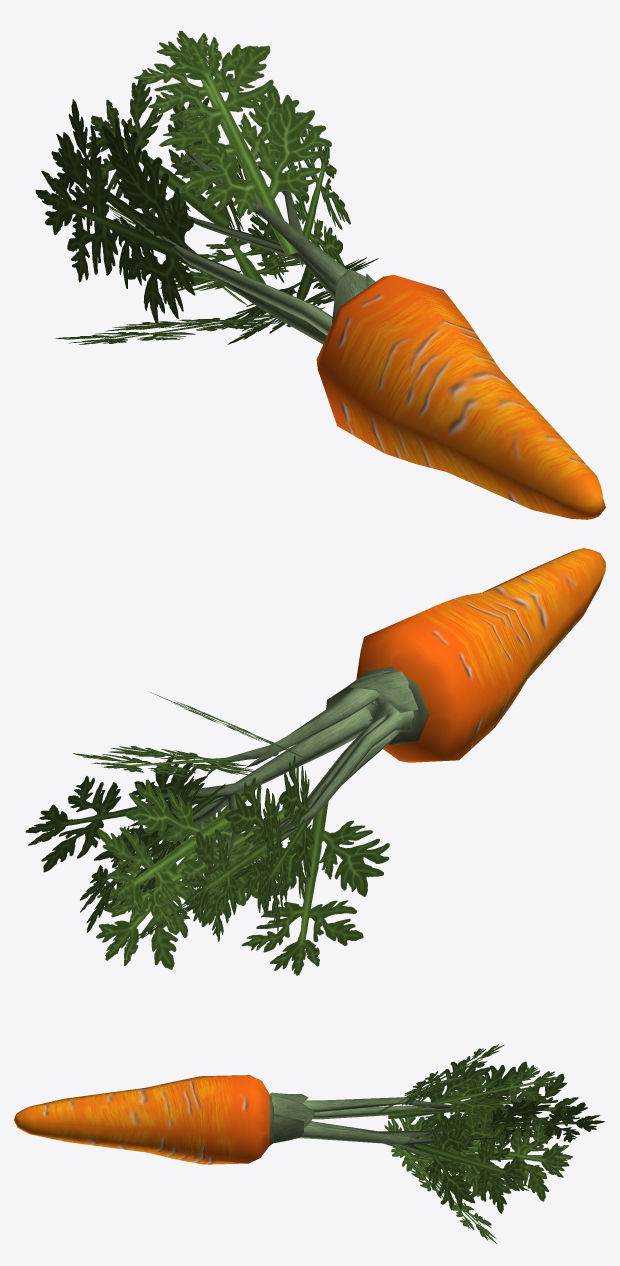
Rendered from ninnjin.fbx.
3 views of the same model, one above another, from view 1: azimuth 30°, elevation 25°; view 2: azimuth 150°, elevation 25°; view 3: azimuth 270°, elevation 25° (orthographic). The views are drawn at different scales.
Parts seen in each view (by area): view 1: pCylinder1, pPlane2, pPlane13, pPlane24, pCylinder2, pPlane12, pPlane8, pPlane9, pPlane5, pPlane20, pPlane14, pPlane10 (+6 smaller); view 2: pCylinder1, pCylinder2, pPlane8, pPlane14, pPlane9, pPlane25, pPlane17, pPlane5, pPlane13, pPlane6, pPlane10, pPlane15 (+8 smaller); view 3: pCylinder1, pPlane5, pCylinder2, pPlane15, pPlane12, pPlane19, pPlane9, pPlane13, pPlane2, pPlane24, pPlane6, pPlane11 (+7 smaller).
Part boxes in pixels (left/top/right/bottom): pCylinder1: left=316, top=274, right=605, bottom=519; pPlane2: left=148, top=37, right=331, bottom=255; pPlane13: left=35, top=132, right=238, bottom=322; pPlane24: left=36, top=133, right=237, bottom=322; pCylinder2: left=129, top=148, right=347, bottom=344; pPlane12: left=133, top=31, right=313, bottom=196; pPlane8: left=86, top=69, right=231, bottom=250; pPlane9: left=51, top=99, right=183, bottom=288; pPlane5: left=284, top=111, right=350, bottom=266; pPlane20: left=52, top=100, right=183, bottom=288; pPlane14: left=55, top=313, right=277, bottom=344; pPlane10: left=159, top=234, right=326, bottom=290; pCylinder1: left=356, top=548, right=605, bottom=762; pCylinder2: left=134, top=688, right=414, bottom=857; pPlane8: left=97, top=779, right=231, bottom=933; pPlane14: left=241, top=821, right=389, bottom=975; pPlane9: left=185, top=777, right=310, bottom=941; pPlane25: left=241, top=801, right=389, bottom=975; pPlane17: left=26, top=754, right=249, bottom=872; pPlane5: left=25, top=754, right=248, bottom=871; pPlane13: left=258, top=756, right=325, bottom=932; pPlane6: left=96, top=778, right=264, bottom=969; pPlane10: left=109, top=805, right=298, bottom=934; pPlane15: left=80, top=776, right=225, bottom=932; pCylinder1: left=14, top=1075, right=273, bottom=1164; pPlane5: left=402, top=1113, right=525, bottom=1213; pCylinder2: left=298, top=1077, right=507, bottom=1160; pPlane15: left=419, top=1110, right=569, bottom=1201; pPlane12: left=416, top=1065, right=560, bottom=1119; pPlane19: left=464, top=1100, right=604, bottom=1143; pPlane9: left=445, top=1065, right=580, bottom=1144; pPlane13: left=389, top=1059, right=543, bottom=1150; pPlane2: left=375, top=1043, right=504, bottom=1115; pPlane24: left=388, top=1062, right=526, bottom=1148; pPlane6: left=393, top=1144, right=496, bottom=1243; pPlane11: left=420, top=1114, right=572, bottom=1196.
Size of the model in its own units: 140 by 120 by 339.
Materials: 1 (1 with a texture image).
